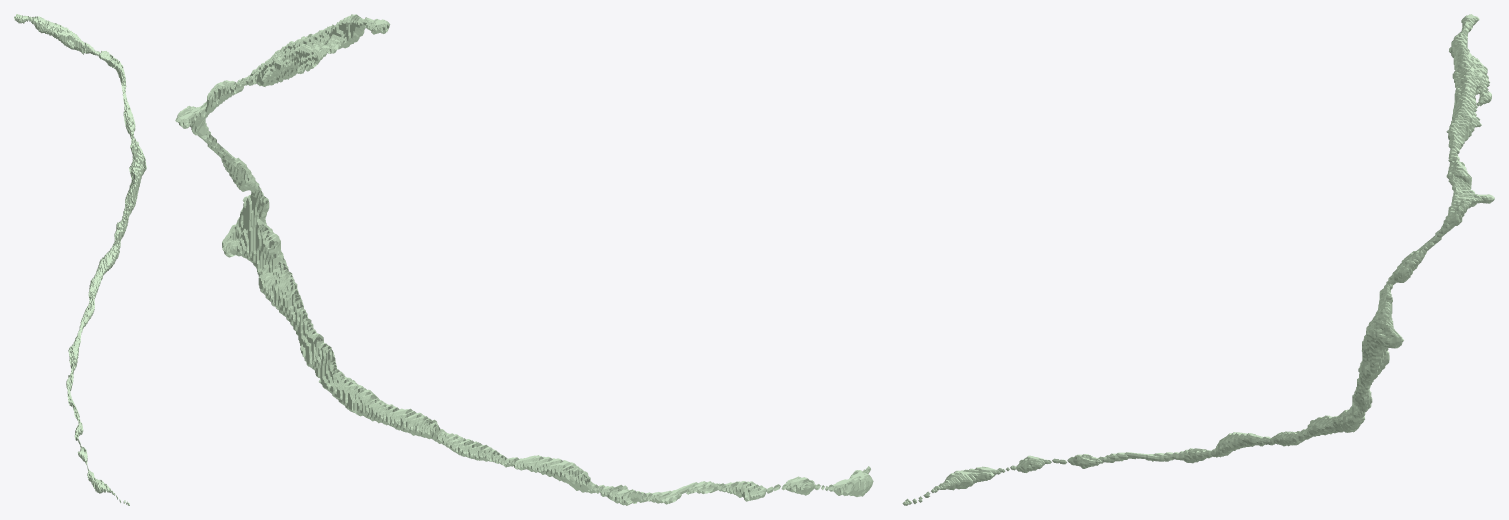
The model's file is SVV_AUAR.gltf.
3 views of the same model, side by side, from view 1: azimuth 30°, elevation 25°; view 2: azimuth 150°, elevation 25°; view 3: azimuth 270°, elevation 25° (orthographic). The views are drawn at different scales.
Parts seen in each view (by area): view 1: AUAR; view 2: AUAR; view 3: AUAR.
Part boxes in pixels (x1,y1,x2,y2): AUAR: [14, 14, 146, 505]; AUAR: [175, 14, 873, 505]; AUAR: [902, 14, 1494, 505].
Size of the model in its own units: 98357 by 171496 by 169988.
